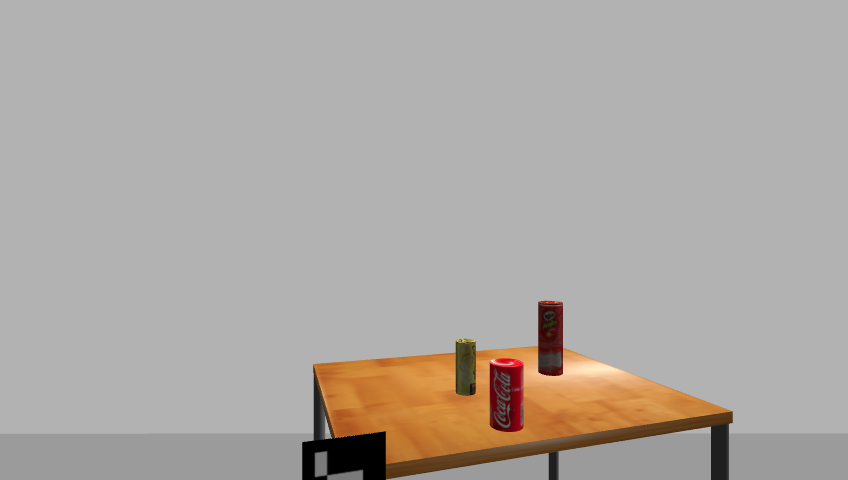aruco marker: (295, 431, 392, 480)
biscuits pack: (453, 338, 478, 397)
coke can: (488, 358, 526, 433)
dinner table: (303, 346, 741, 480)
pringles can: (535, 301, 565, 378)
